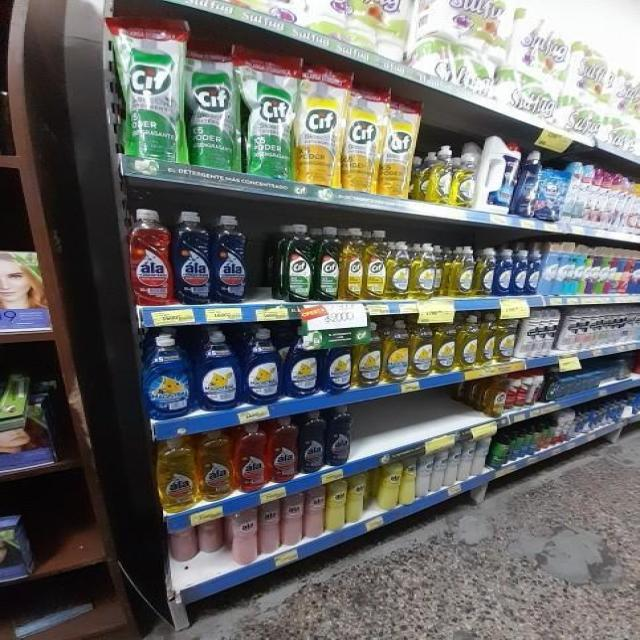ala_conc_amarillo: (156, 436, 197, 511), (198, 429, 233, 500)
ala_conc_azul: (173, 211, 210, 306), (212, 214, 250, 305), (326, 407, 352, 466), (300, 410, 324, 473)
ala_conc_rojo: (126, 208, 172, 307), (235, 422, 268, 492), (269, 415, 298, 483)
ala_crem_amarillo: (377, 463, 399, 510), (326, 481, 346, 531), (347, 475, 367, 524), (400, 457, 416, 505)
ala_crem_rosado: (229, 508, 257, 565), (259, 500, 280, 554), (282, 494, 302, 546), (304, 487, 324, 538)
cif_conc_bot_amarilla: (341, 227, 363, 301), (364, 229, 386, 301)
cif_conc_botella_verde: (280, 224, 314, 302), (315, 225, 340, 302)
cif_conc_sachet_amarillo: (295, 65, 342, 186), (343, 84, 382, 193), (382, 93, 414, 198)
cif_conc_sachet_verde: (121, 18, 185, 165), (188, 41, 240, 170), (243, 50, 294, 179)
magistral_con_amarillo: (353, 322, 381, 388), (383, 319, 408, 383), (410, 242, 434, 300), (410, 318, 433, 378), (448, 246, 474, 298), (387, 241, 409, 301), (433, 317, 456, 374), (457, 314, 478, 370), (496, 312, 516, 363), (478, 314, 496, 365), (476, 247, 494, 297)
magistral_con_azul: (144, 334, 193, 419), (196, 329, 240, 412), (243, 327, 282, 405), (285, 326, 319, 398), (321, 327, 352, 394), (495, 248, 512, 297), (513, 249, 527, 296)
